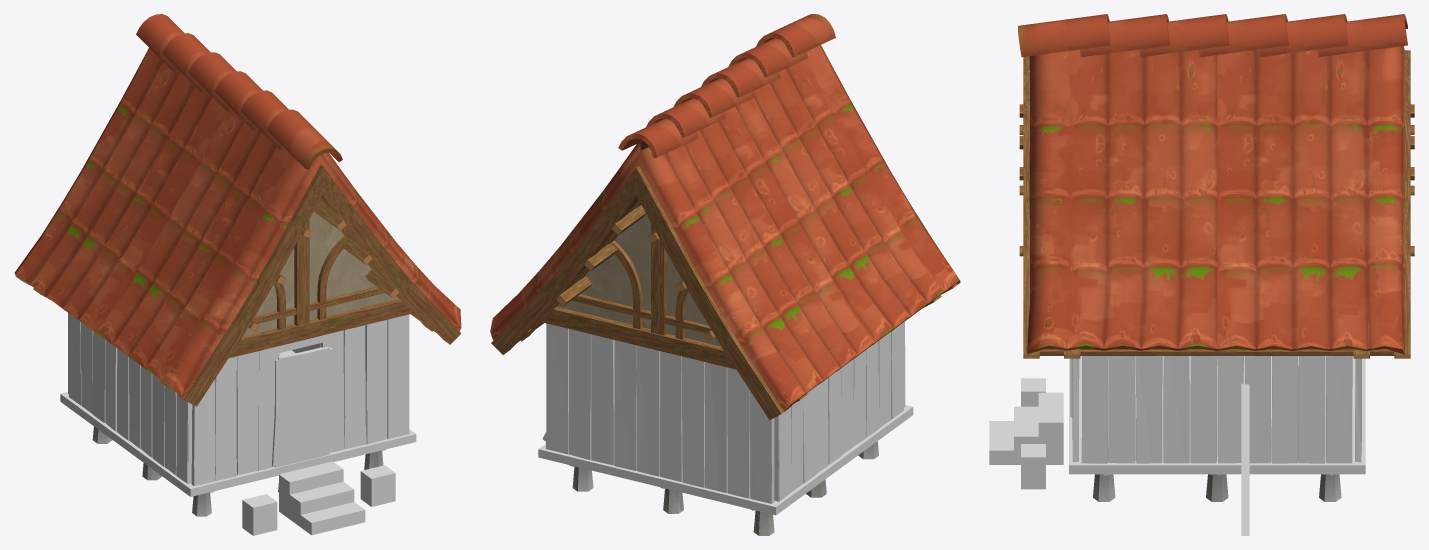
File: fx_granary.gltf
3 renders of one model, left to right at view 1: azimuth 30°, elevation 25°; view 2: azimuth 150°, elevation 25°; view 3: azimuth 270°, elevation 25°, orthographic. The views are drawn at different scales.
Parts seen in each view (by area): view 1: T1_KitRoofRoundTiles4x4059, T1_KitRoofFrontBrick4060, T2_Door065, T1_Door065, T1_Platform019, T2_Plank025, T2_Plank022, T1_Plank020, T2_Plank023, T2_Plank021, T1_Plank027, T2_Plank026 (+20 smaller); view 2: T1_KitRoofRoundTiles4x4059, T1_KitRoofFrontBrick4061, T1_Platform019, T1_Plank031, T2_Plank035, T2_Plank029, T1_Plank036, T1_Plank032, T2_Plank037, T1_Plank033, T2_Plank034, T2_Plank028 (+18 smaller); view 3: T1_KitRoofRoundTiles4x4059, T1_Platform019, T1_Plank048, T2_Plank052, T2_Plank049, T2_Plank056, T1_Plank055, T2_Plank053, T1_Plank057, T2_Plank050, T2_Plank054, T1_Step062 (+13 smaller).
Boxes of the visible parts, x1,y1,x2,y2 form: T1_KitRoofRoundTiles4x4059: (14,14,461,406); T1_KitRoofFrontBrick4060: (188,202,413,358); T2_Door065: (274,346,329,467); T1_Door065: (271,347,332,466); T1_Platform019: (60,350,416,496); T2_Plank025: (344,325,365,449); T2_Plank022: (236,351,258,475); T1_Plank020: (194,379,215,486); T2_Plank023: (258,346,279,470); T2_Plank021: (215,356,236,480); T1_Plank027: (395,314,409,437); T2_Plank026: (365,320,387,444); T1_KitRoofRoundTiles4x4059: (490,14,960,419); T1_KitRoofFrontBrick4061: (541,205,735,369); T1_Platform019: (538,405,913,515); T1_Plank031: (681,356,704,487); T2_Plank035: (592,334,614,465); T2_Plank029: (727,367,750,498); T1_Plank036: (569,329,591,459); T1_Plank032: (660,351,681,481); T2_Plank037: (546,323,568,454); T1_Plank033: (636,345,658,476); T2_Plank034: (616,340,636,470); T2_Plank028: (750,391,771,503); T1_KitRoofRoundTiles4x4059: (1018,14,1410,358); T1_Platform019: (1069,356,1365,474); T1_Plank048: (1082,356,1108,463); T2_Plank052: (1190,356,1216,463); T2_Plank049: (1109,356,1135,463); T2_Plank056: (1298,356,1325,463); T1_Plank055: (1271,356,1297,463); T2_Plank053: (1218,356,1243,463); T1_Plank057: (1326,356,1352,463); T2_Plank050: (1136,356,1162,463); T2_Plank054: (1244,356,1270,463); T1_Step062: (1038,392,1063,464).
Bounding box in the file's own units: 5.73 × 6.78 × 6.02.
4 materials, 4 textured.
